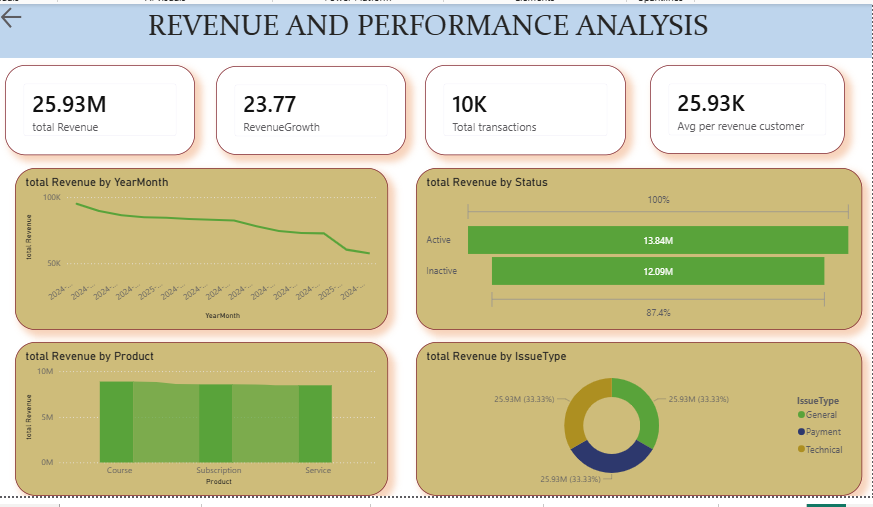

This screenshot's page, from the dashboard's own definition file:
{"tool":"powerbi","page":{"name":"Revenue","canvas":[1280,720],"ordinal":4},"visuals":[{"type":"lineChart","fields":{"Y":["Customer_Master 1.total Revenue"],"Category":["DateTable.YearMonth"]},"box":[24.9,240,545.9,237.1],"z":0},{"type":"textbox","box":[0,0,1280.5,79],"z":1000},{"type":"cardVisual","fields":{"Data":["Customer_Master 1.total Revenue"]},"box":[10.2,89.3,278,131.7],"z":2000},{"type":"cardVisual","fields":{"Data":["Customer_Master 1.Revenue Growth%"]},"box":[319,90.7,278,130.2],"z":3000},{"type":"cardVisual","fields":{"Data":["Customer_Master 1.Total transactions"]},"box":[624.9,89.3,294.1,131.7],"z":4000},{"type":"cardVisual","fields":{"Data":["Customer_Master 1.Avg per revenue customer"]},"box":[954.1,89.3,285.4,130.2],"z":5000},{"type":"ribbonChart","fields":{"Y":["Customer_Master 1.total Revenue"],"Category":["Transactions 1.Product"]},"box":[24.9,494.6,545.9,225.4],"z":6000},{"type":"funnel","fields":{"Y":["Customer_Master 1.total Revenue"],"Category":["Subscription 1.Status"]},"box":[611.7,240,652.7,237.1],"z":7000},{"type":"donutChart","fields":{"Category":["Support 1.IssueType"],"Y":["Customer_Master 1.total Revenue"]},"box":[611.7,494.6,652.7,225.4],"z":8000},{"type":"actionButton","box":[0,0,100,40],"z":8001}]}

Visuals, with their boxes in screenshot pixels (x1, y1, x2, y2):
lineChart - Customer_Master 1.total Revenue x DateTable.YearMonth: BBox(19, 168, 386, 328)
textbox: BBox(2, 7, 864, 60)
cardVisual - Customer_Master 1.total Revenue: BBox(9, 67, 196, 155)
cardVisual - Customer_Master 1.Revenue Growth%: BBox(217, 68, 404, 155)
cardVisual - Customer_Master 1.Total transactions: BBox(423, 67, 620, 155)
cardVisual - Customer_Master 1.Avg per revenue customer: BBox(644, 67, 836, 154)
ribbonChart - Customer_Master 1.total Revenue x Transactions 1.Product: BBox(19, 339, 386, 491)
funnel - Customer_Master 1.total Revenue x Subscription 1.Status: BBox(414, 168, 853, 328)
donutChart - Support 1.IssueType x Customer_Master 1.total Revenue: BBox(414, 339, 853, 491)
actionButton: BBox(2, 7, 70, 34)
